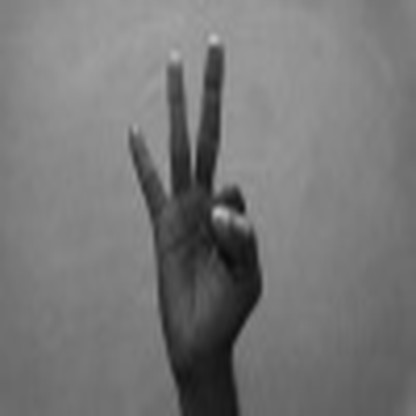f: (115, 23, 265, 351)
